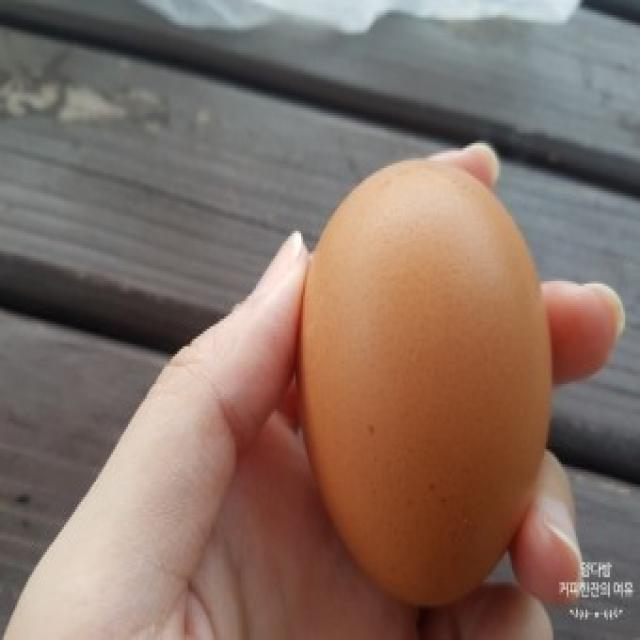eggs: (287, 148, 557, 609)
